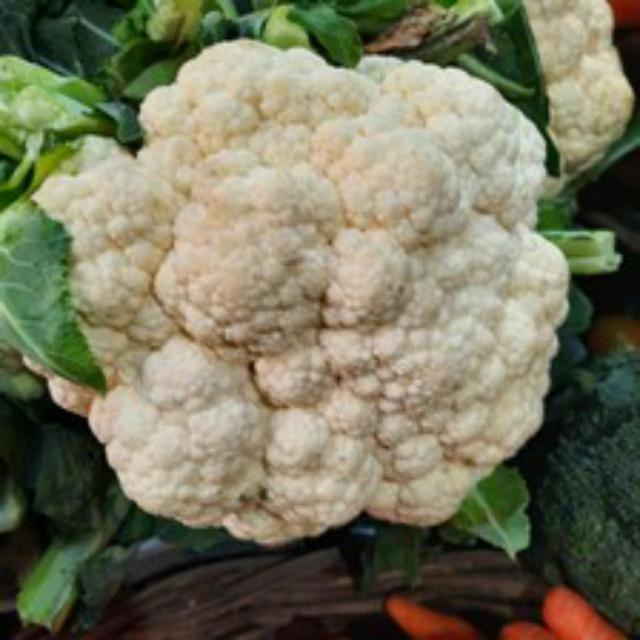cauliflower: (5, 32, 581, 562)
